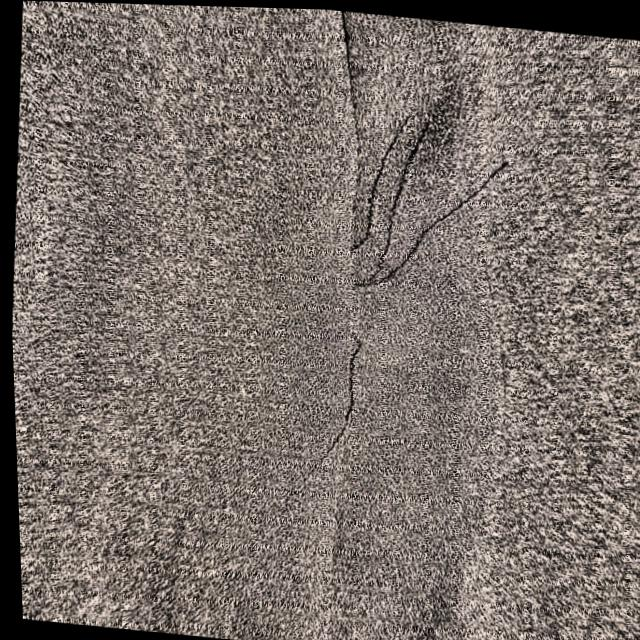Stitch: (288, 87, 553, 310), (275, 328, 449, 484)
